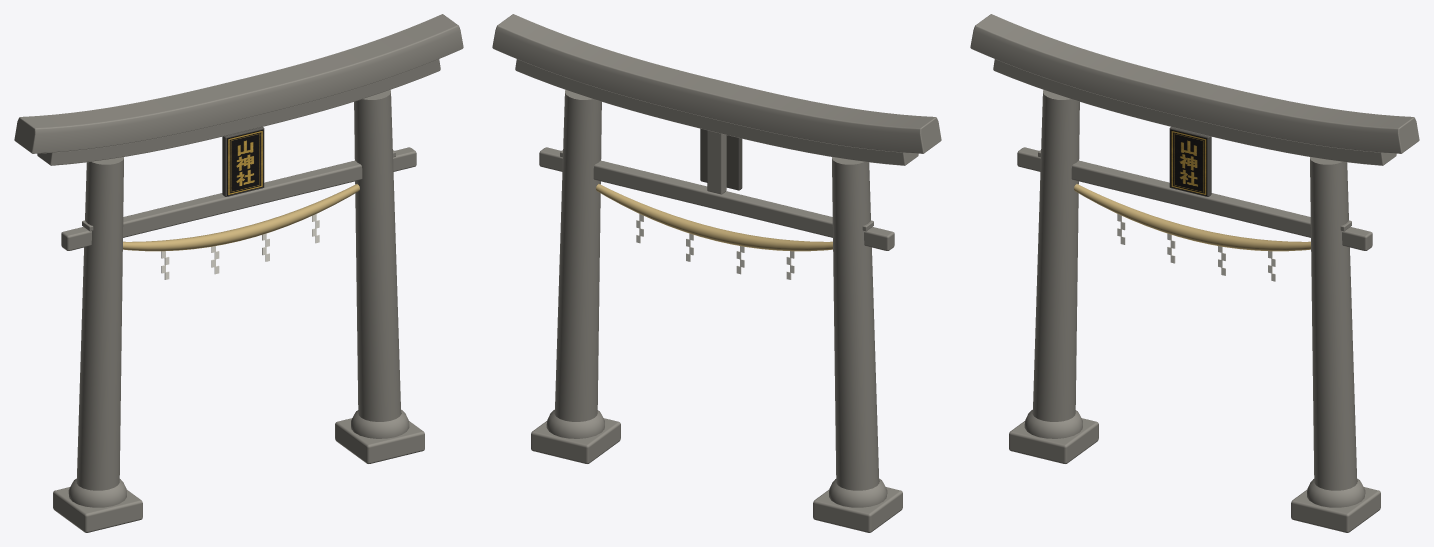
Rendered from torii_stone.fbx.
3 renders of one model, left to right at view 1: azimuth 30°, elevation 25°; view 2: azimuth 150°, elevation 25°; view 3: azimuth 330°, elevation 25°, orthographic.
Parts seen in each view (by area): view 1: torii_stone; view 2: torii_stone; view 3: torii_stone.
Boxes of the visible parts, <box> form: torii_stone: <box>14,14,463,532</box>; torii_stone: <box>492,14,941,532</box>; torii_stone: <box>970,14,1419,532</box>.
Bounding box in the file's own units: 4.6 × 4.16 × 0.62.
5 materials, 1 textured.
